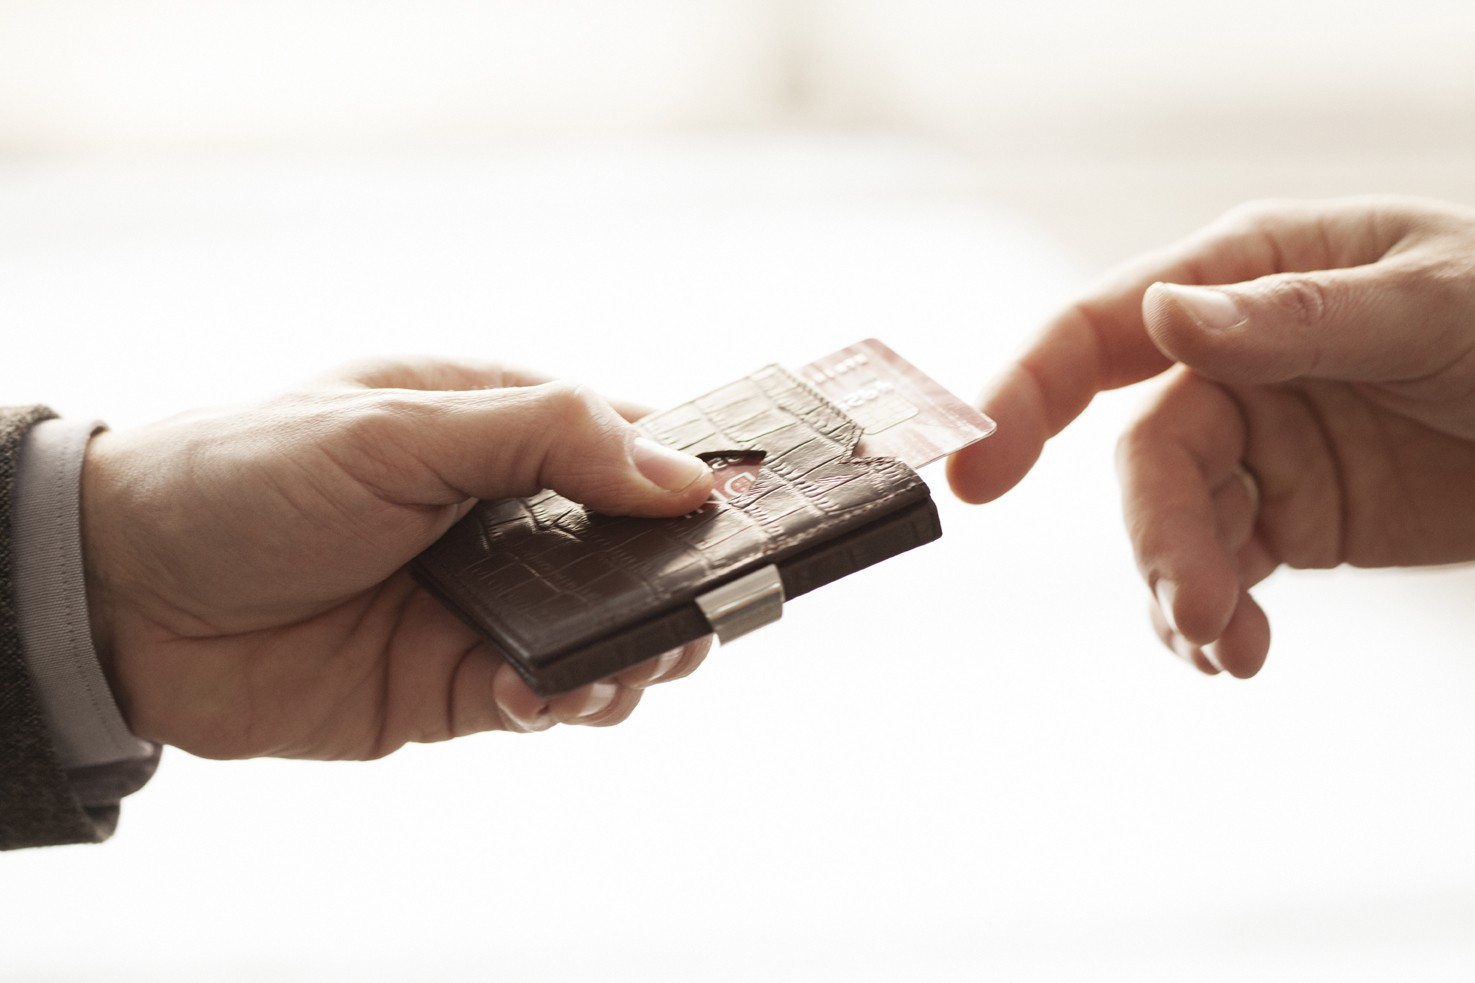monedero: (399, 349, 948, 703)
